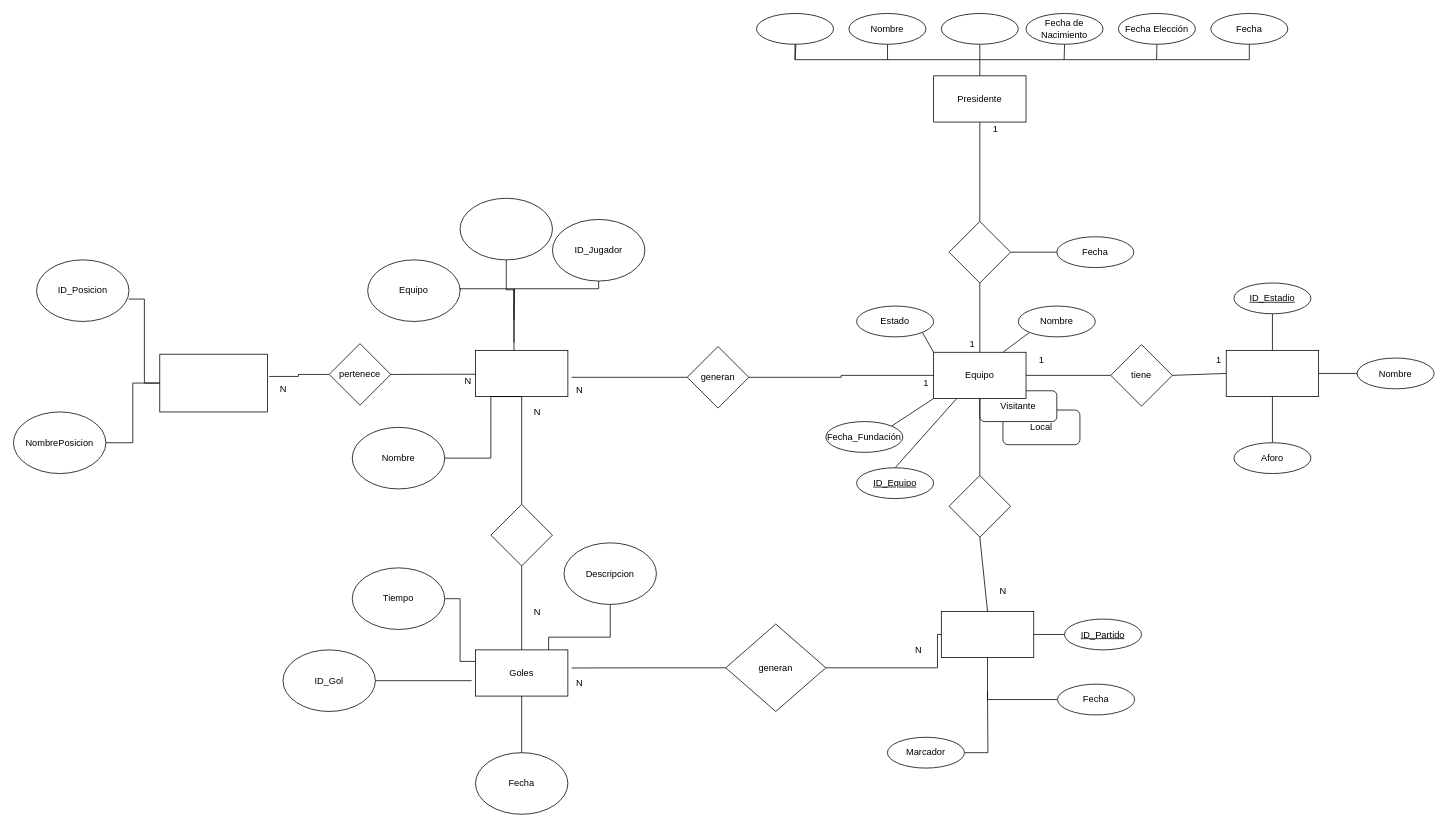
The diagram is 1448 pixels wide and 828 high, and some of its shapes have lost their labels. Each missing label, with the box of its shape:
anotan: (490, 504, 552, 566)
Apellido: (941, 13, 1018, 44)
dirige: (948, 221, 1011, 283)
Estadio: (1225, 350, 1319, 397)
FechaNacimiento: (459, 198, 552, 260)
ID_Presidente: (756, 13, 834, 44)
juegan: (948, 475, 1011, 537)
Jugador: (475, 350, 568, 397)
Partidos: (941, 611, 1034, 658)
Posición: (159, 353, 268, 412)
